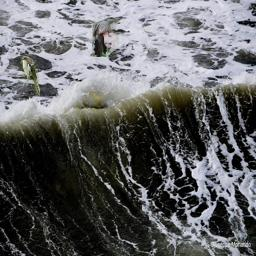Cuckoo: (92, 17, 120, 57), (21, 56, 40, 96)
